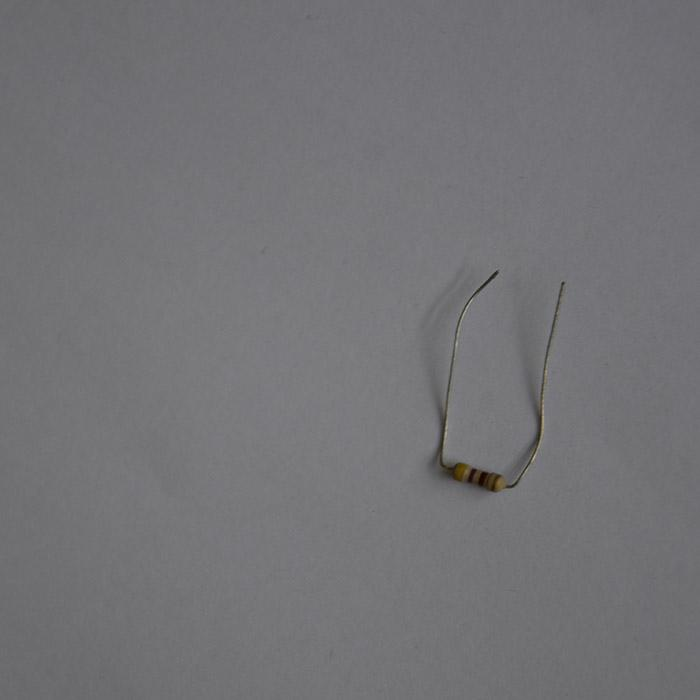resistor: (451, 461, 505, 492)
